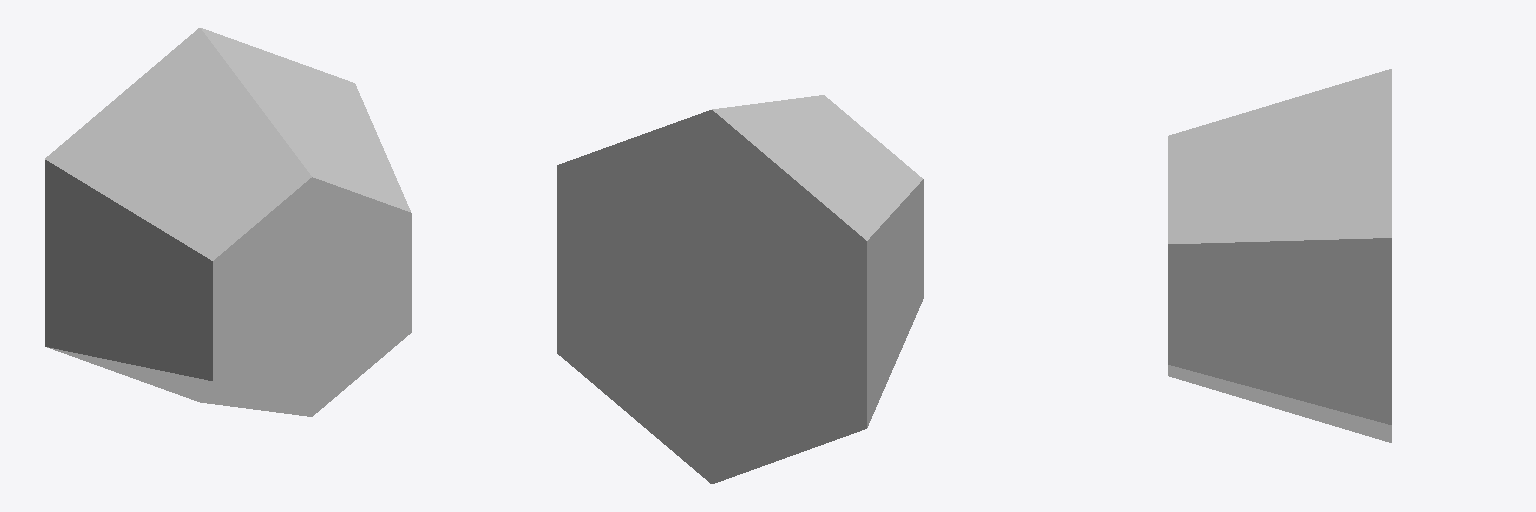
The model's file is rock.obj.
3 renders of one model, left to right at view 1: azimuth 30°, elevation 25°; view 2: azimuth 150°, elevation 25°; view 3: azimuth 270°, elevation 25°, orthographic.
Visible parts, largest first — view 1: Mesh1_Rock_1_Model; view 2: Mesh1_Rock_1_Model; view 3: Mesh1_Rock_1_Model.
Boxes of the visible parts, x1,y1,x2,y2 form: Mesh1_Rock_1_Model: [45, 28, 411, 416]; Mesh1_Rock_1_Model: [557, 95, 923, 483]; Mesh1_Rock_1_Model: [1168, 69, 1391, 442].
Size of the model in its own units: 3.81 by 4.4 by 2.39.